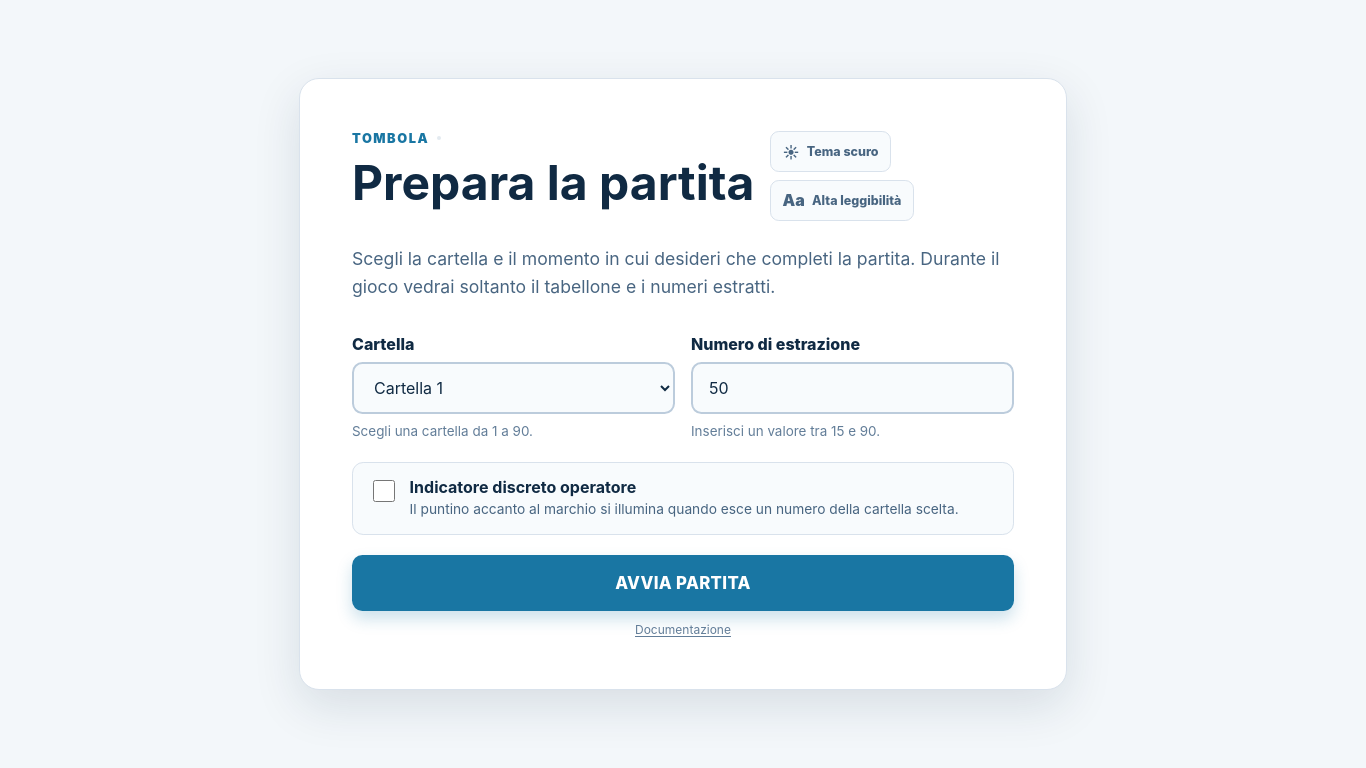
App UI › cancels an in-progress draw when starting a new setup
Click the button "Avvia partita" at (683, 583), box [352,555,1014,611]
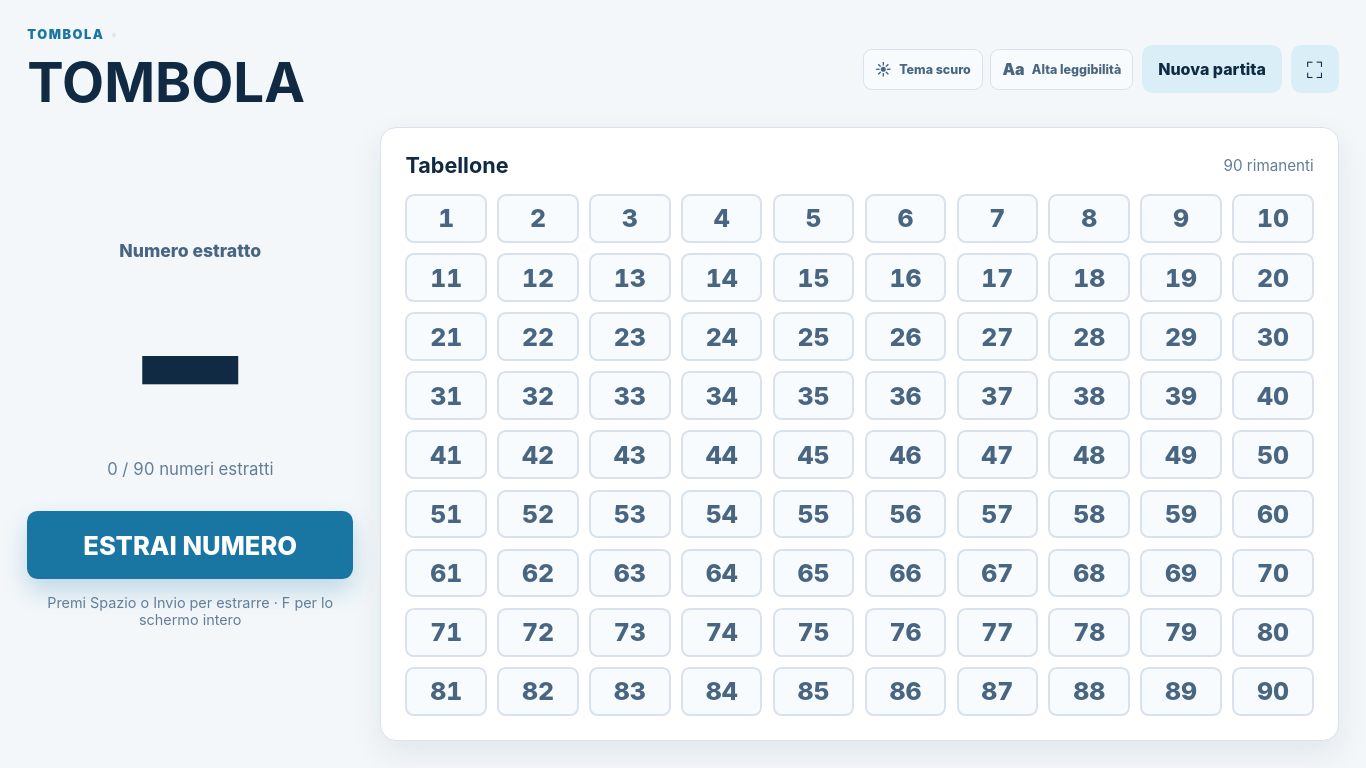
Click the button with class "draw-button" at (190, 545), box [27,511,353,579]
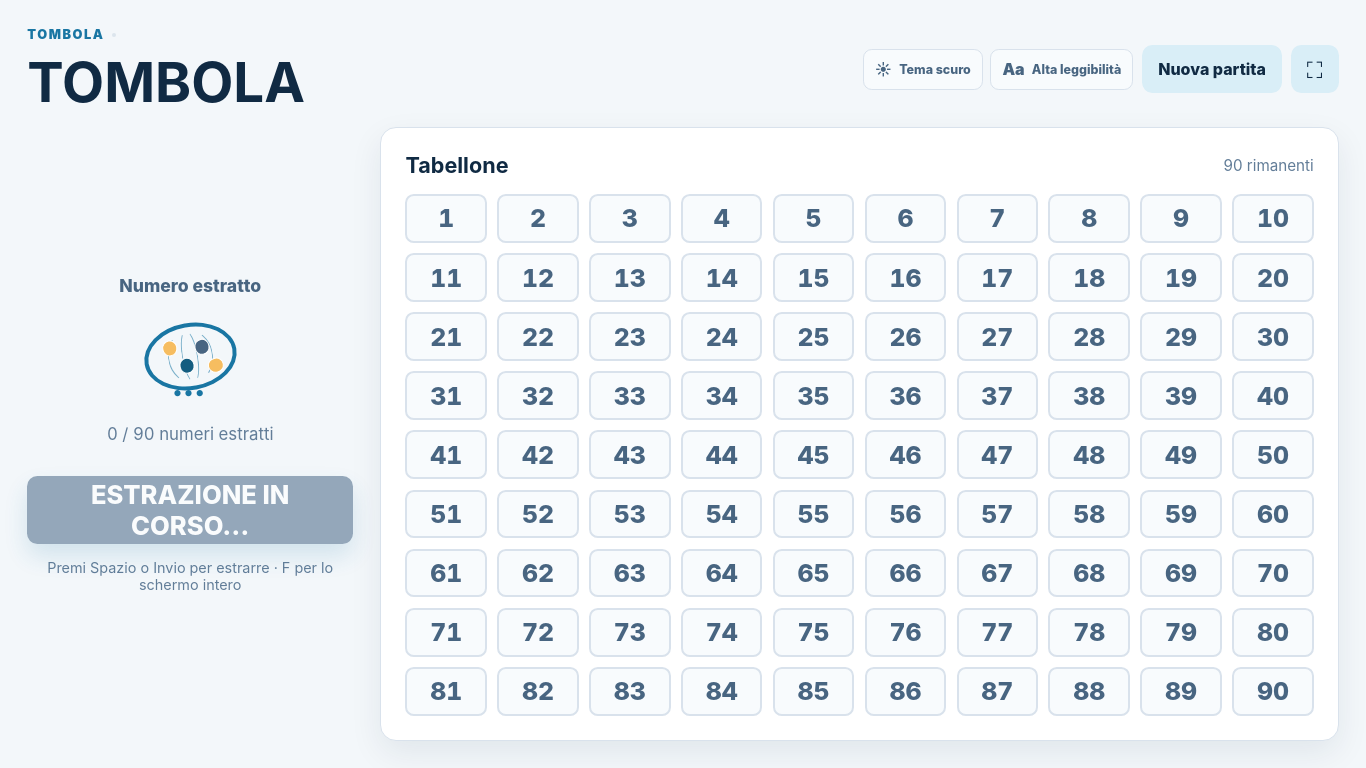
Click the button "Nuova partita" at (1212, 70), box [1142,46,1282,94]
Wait 1500 ms
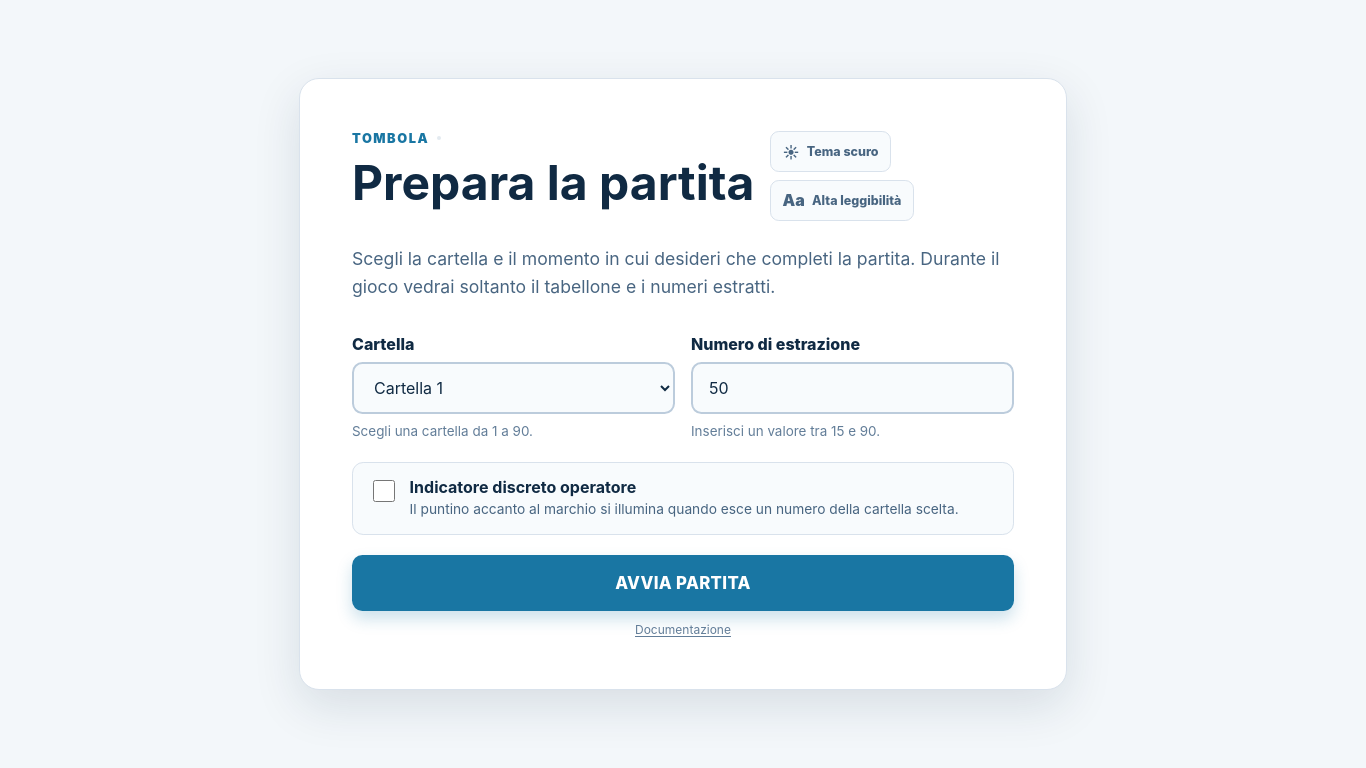
expect the element with class "setup-card" is shown: met, box [299,78,1067,690]
